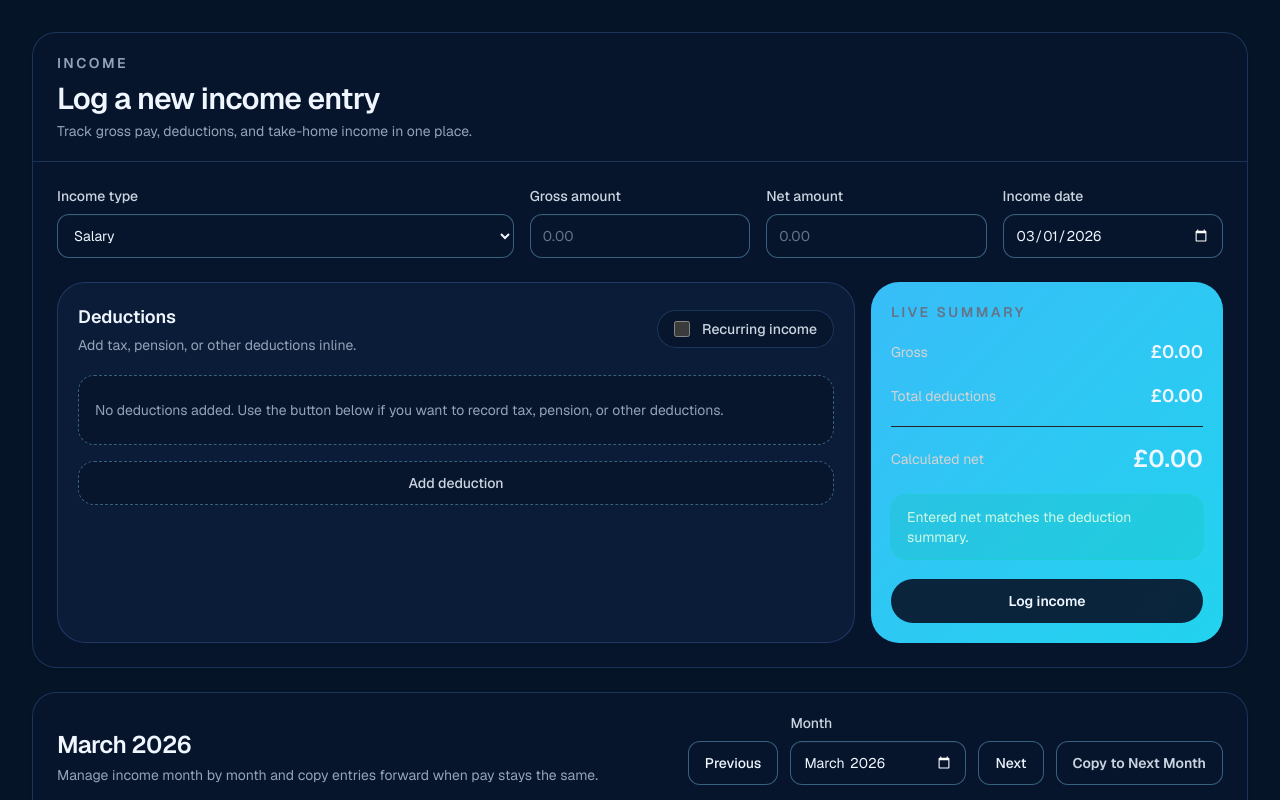
Test case: [Component] income page › should update the live summary when gross and deduction values change
Type "4000" into the number field labelled "Gross amount" at (640, 236), box x1=530 y1=214 x2=750 y2=258
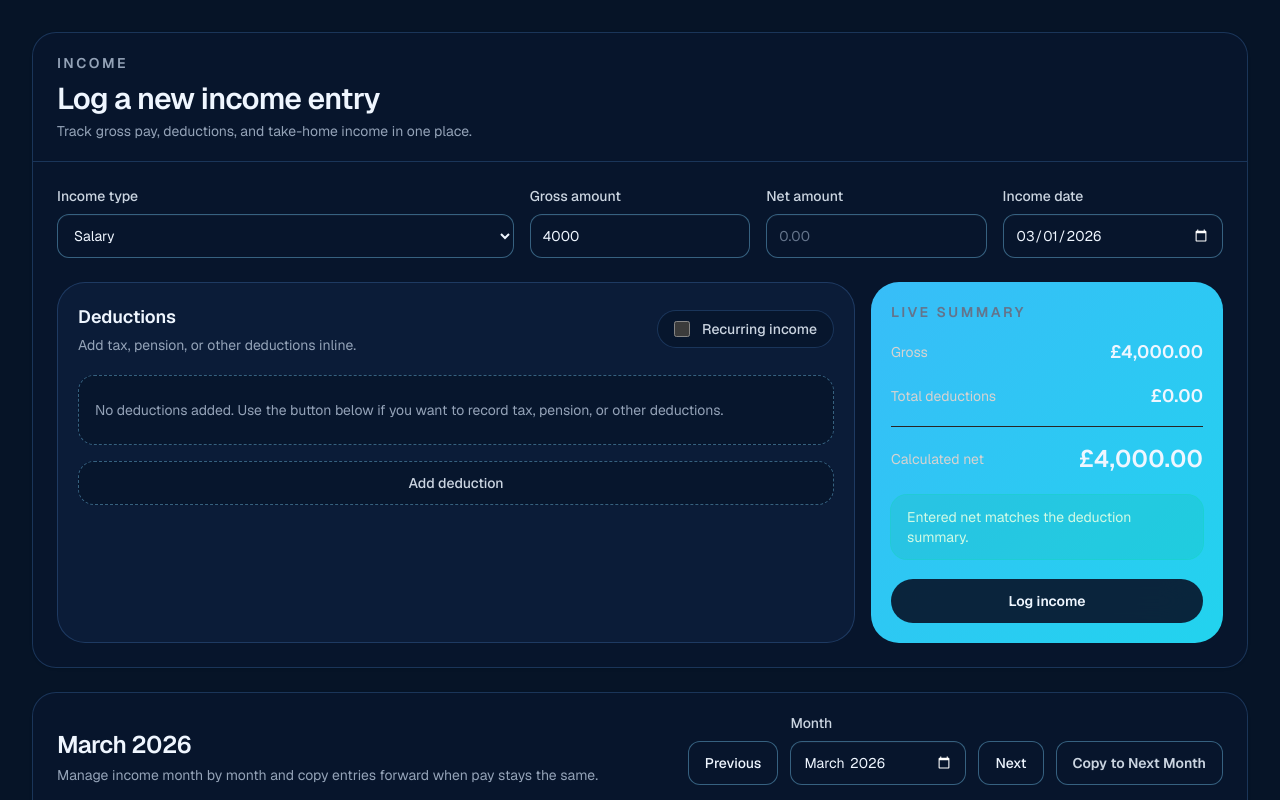
Type "3200" into the number field labelled "Net amount" at (876, 236), box x1=766 y1=214 x2=987 y2=258
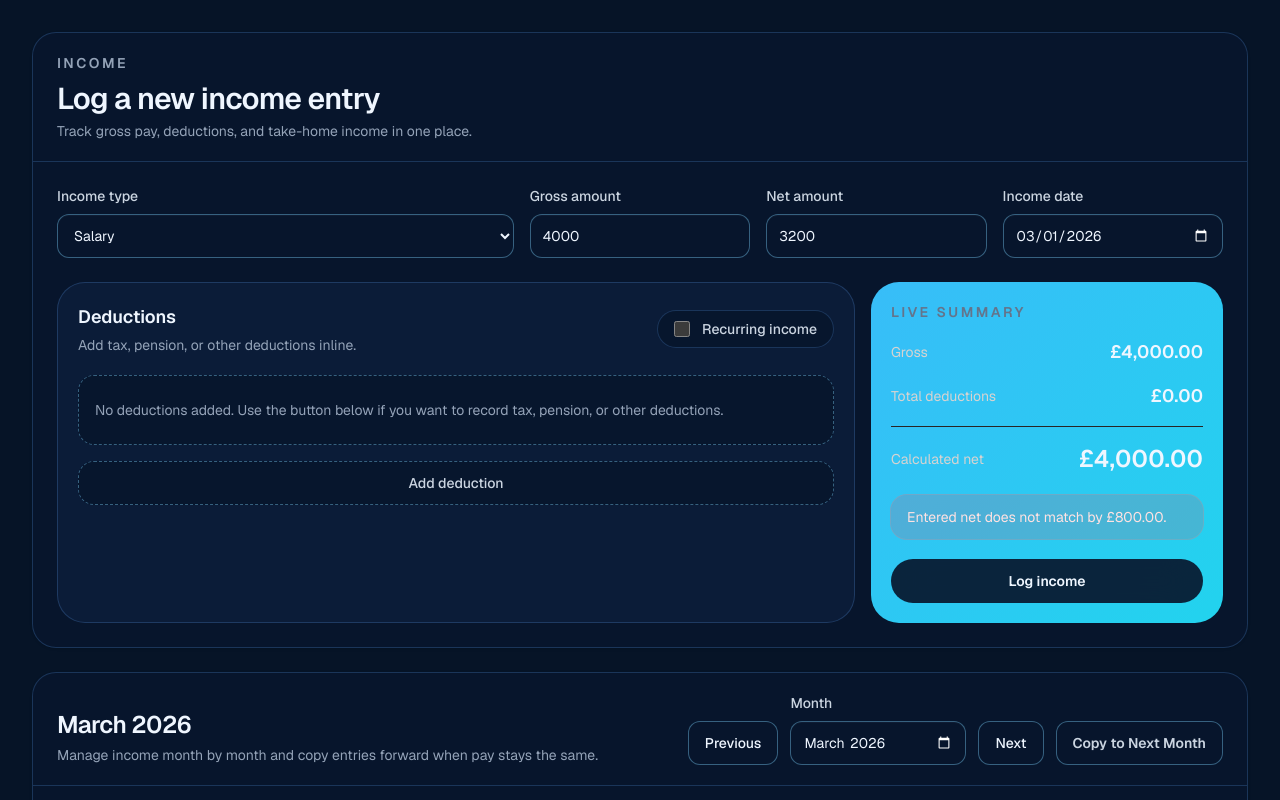
Click the button "Add deduction" at (456, 483), box x1=78 y1=461 x2=834 y2=505
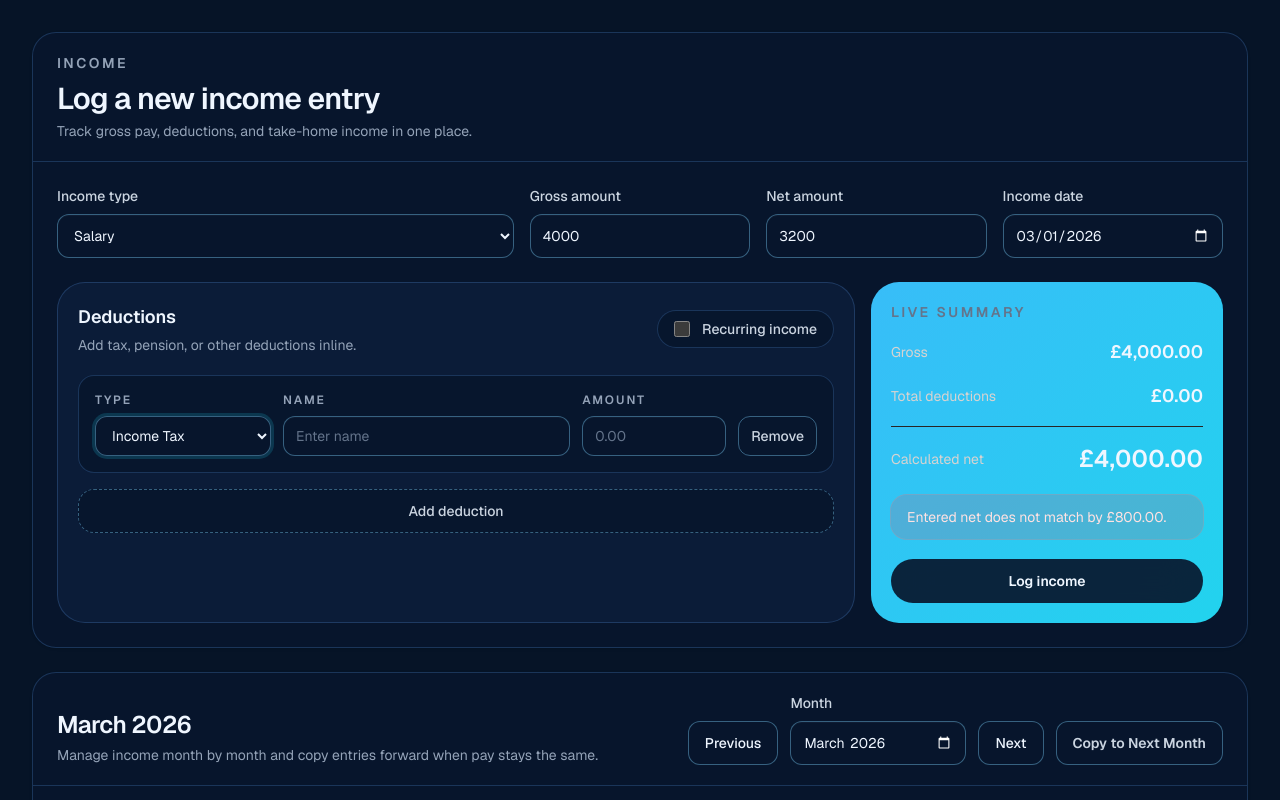
Type "Income Tax" into the field with placeholder "Enter name" at (427, 436), box x1=283 y1=416 x2=570 y2=456
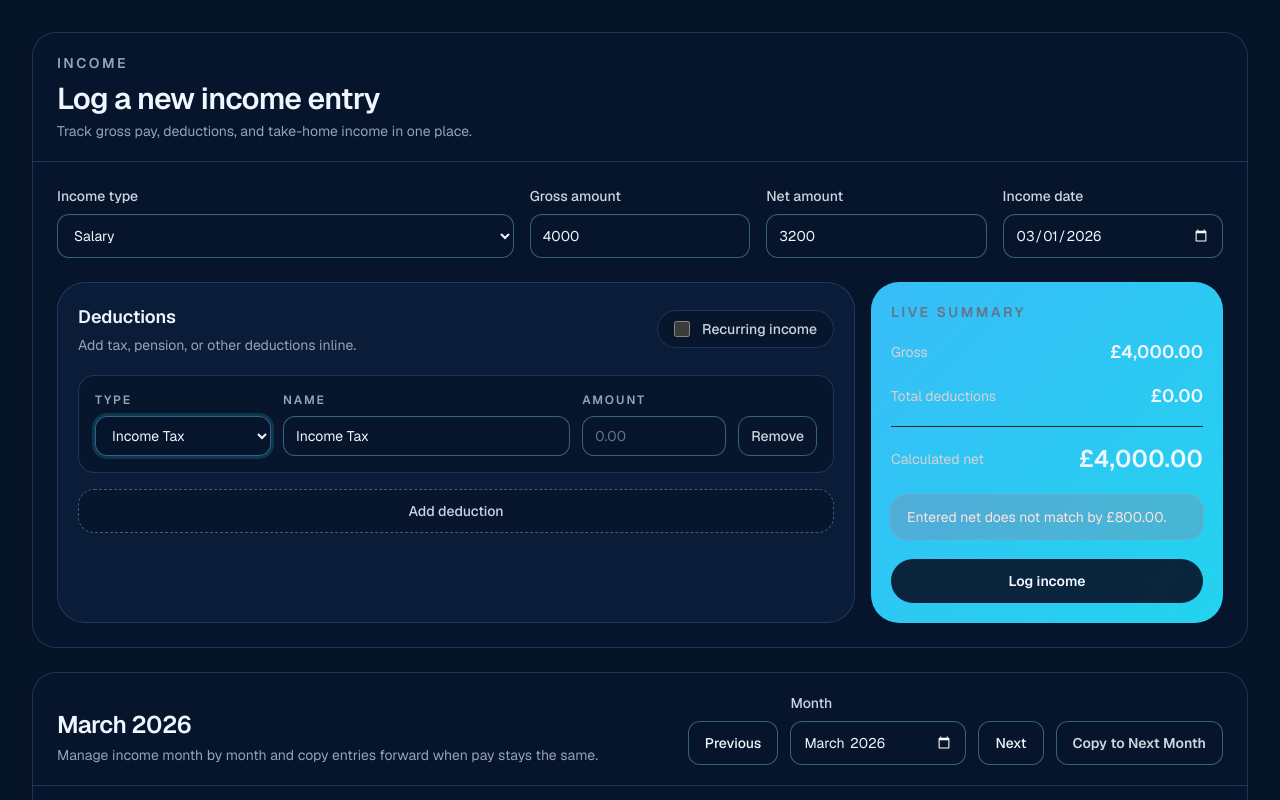
Type "800" into the number field labelled "Amount" at (654, 436), box x1=582 y1=416 x2=726 y2=456
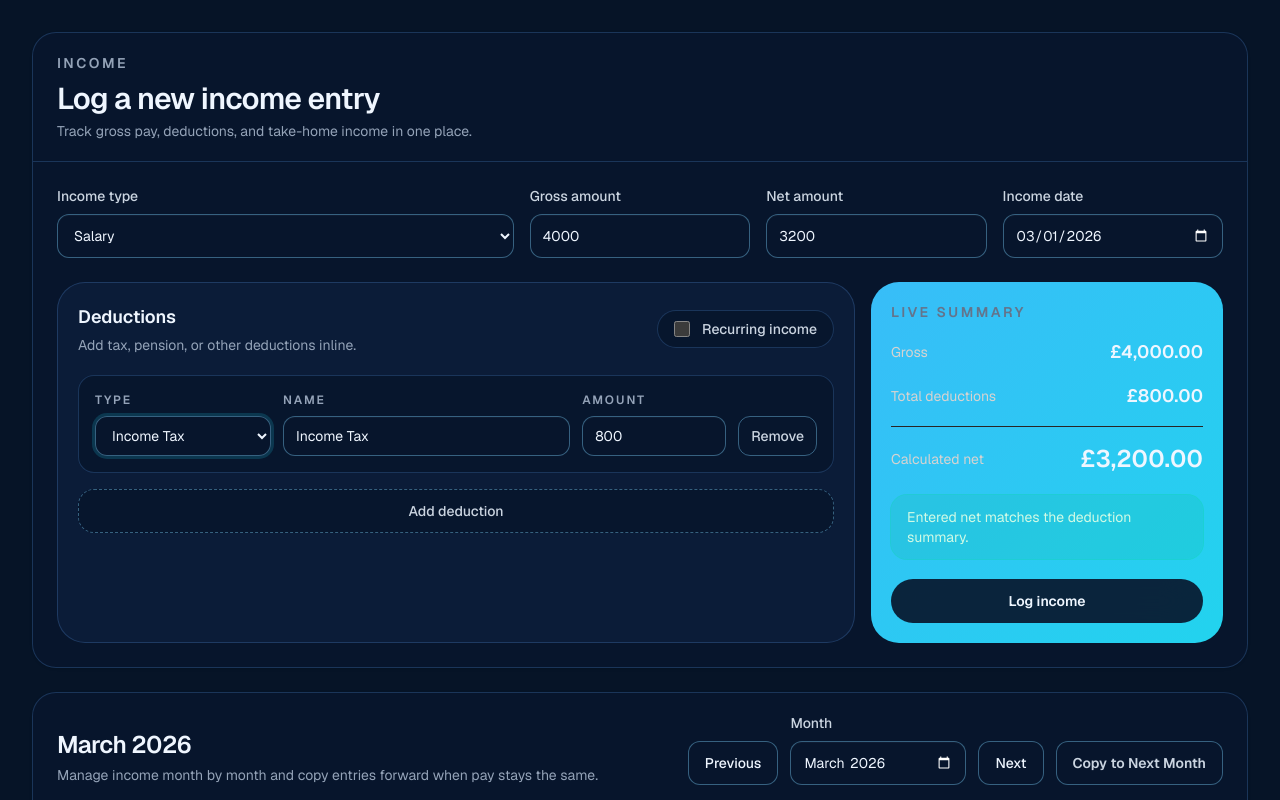
Result: the text "£800.00" is shown at x1=1126 y1=382 x2=1203 y2=410
Result: the text "£3,200.00" is shown at x1=1080 y1=443 x2=1203 y2=475
Result: the text "Entered net matches the deduction summary." is shown at x1=891 y1=495 x2=1203 y2=559
Replace the text in the number field labelled "Net amount" with "3100" at (876, 236), box x1=766 y1=214 x2=987 y2=258
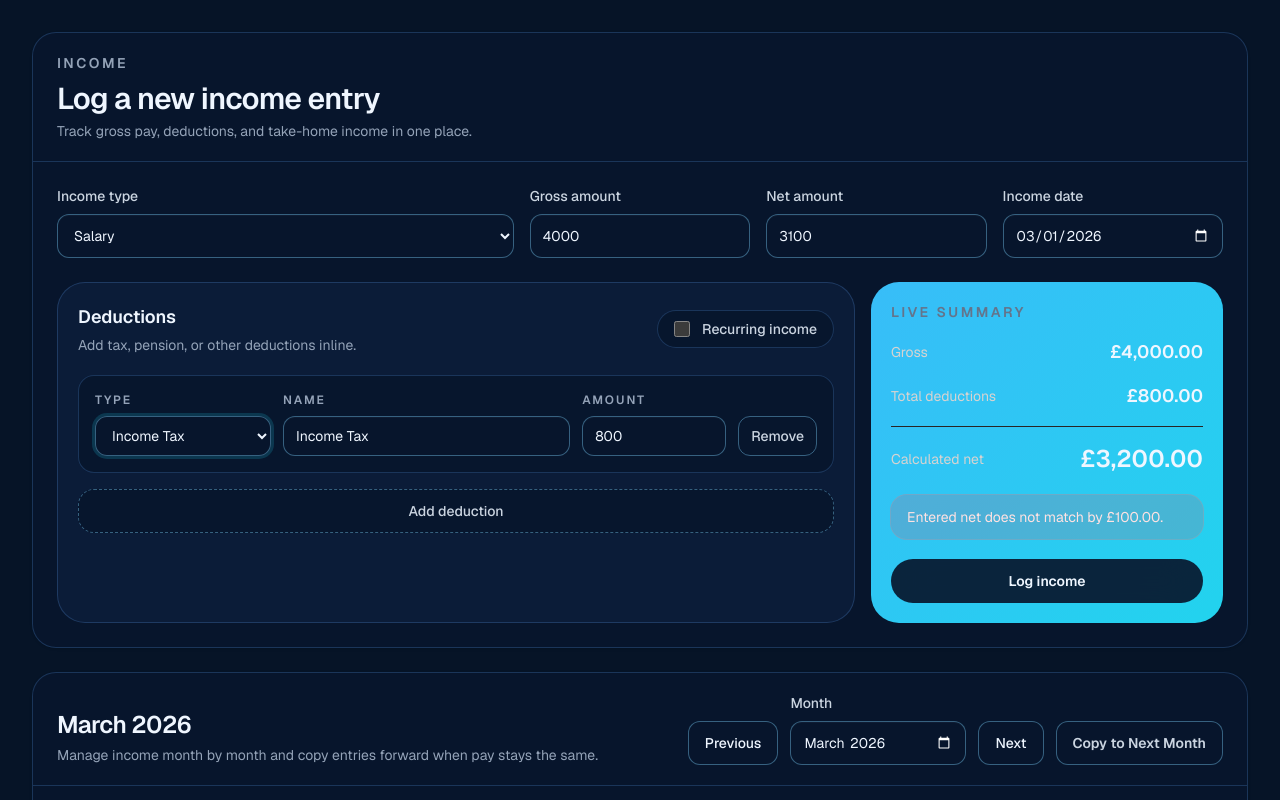
Result: the text "Entered net does not match by £100.00." is shown at x1=891 y1=495 x2=1203 y2=539
